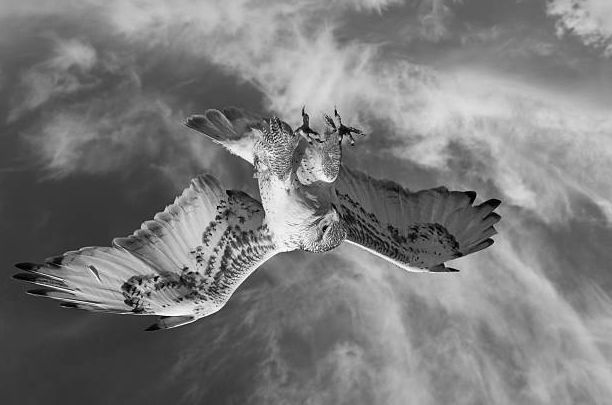Bird: (9, 96, 505, 331)
